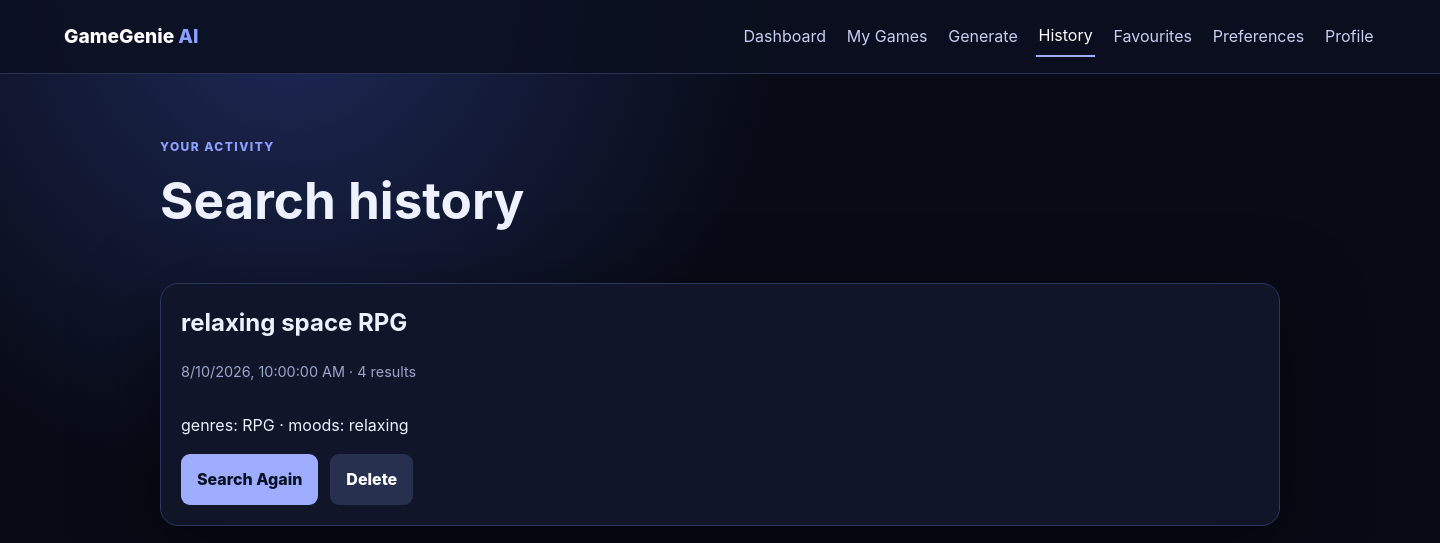
Test: user activity UI › deletes a history entry after the API succeeds
Click the button with aria-label "Delete search relaxing space RPG" at coordinates (372, 479), box [330,454,413,505]
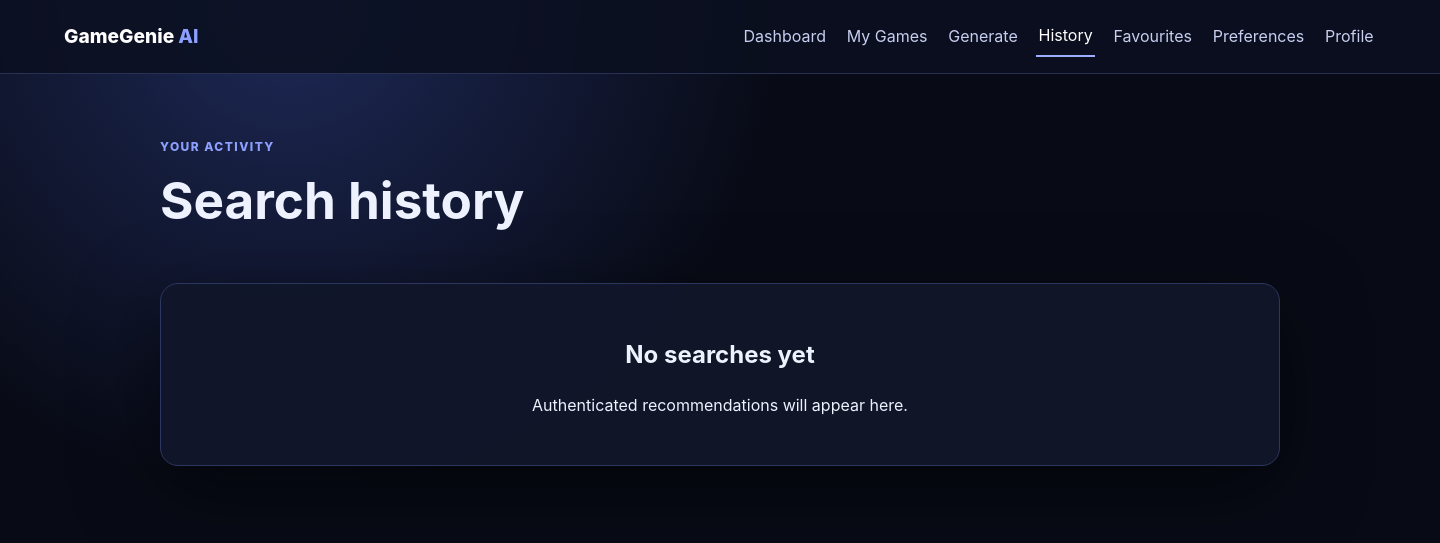
Check: the heading "relaxing space RPG" is gone
